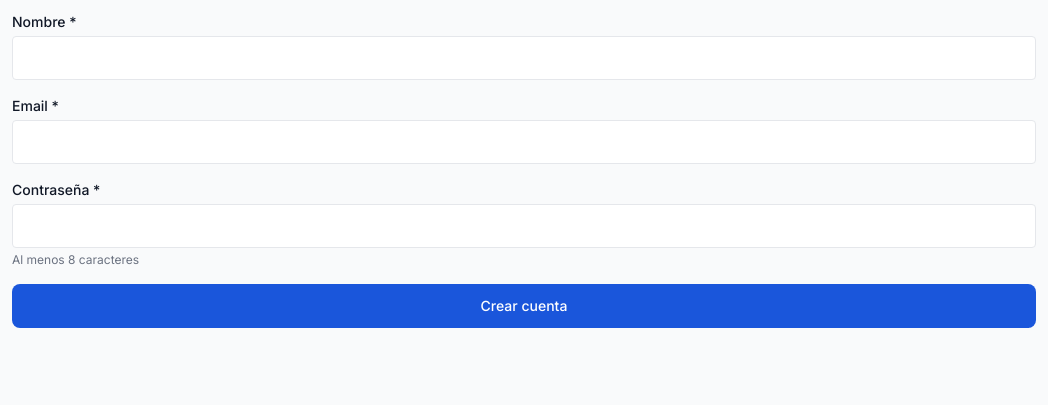
Test: RegisterForm (T2.1) › AC-6: email existente NO confirma que exista ni marca el campo
In the field labelled "Nombre *": point(524, 58) [12, 36, 1036, 80], type "Ana Gómez"
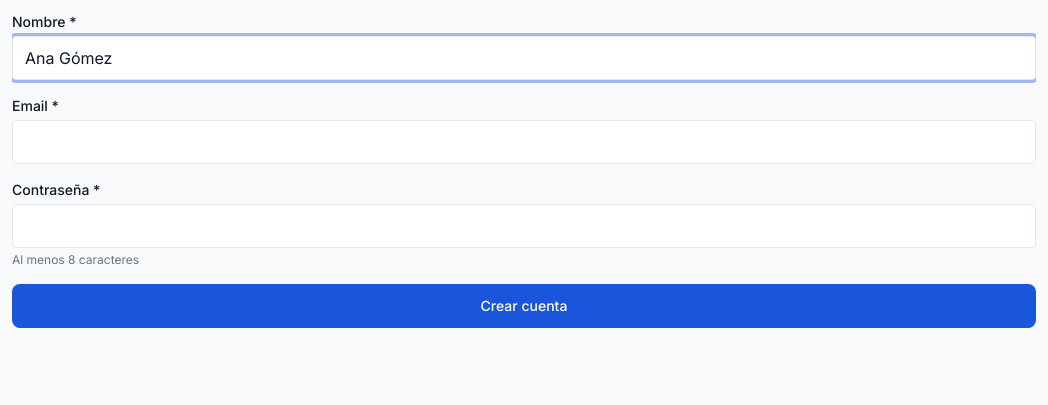
In the field labelled "Email *": point(524, 142) [12, 120, 1036, 164], type "ana@example.com"
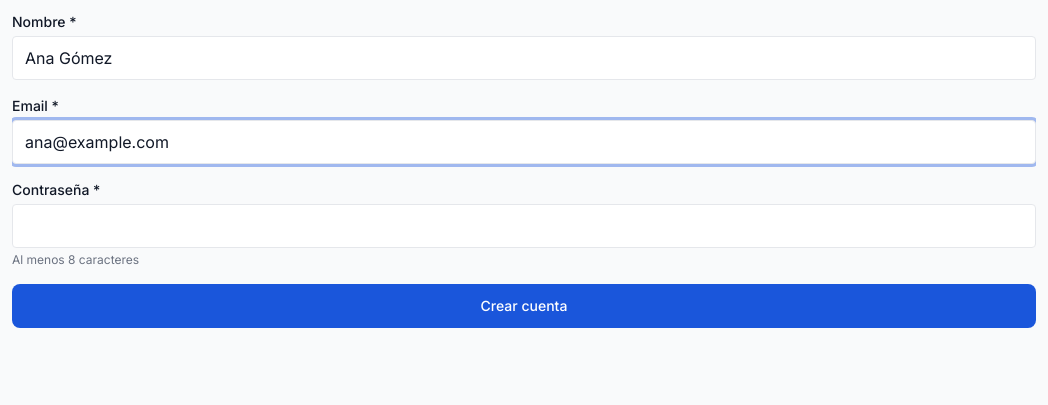
In the password field labelled "Contraseña *": point(524, 226) [12, 204, 1036, 248], type "Contrasena-Valida-1"
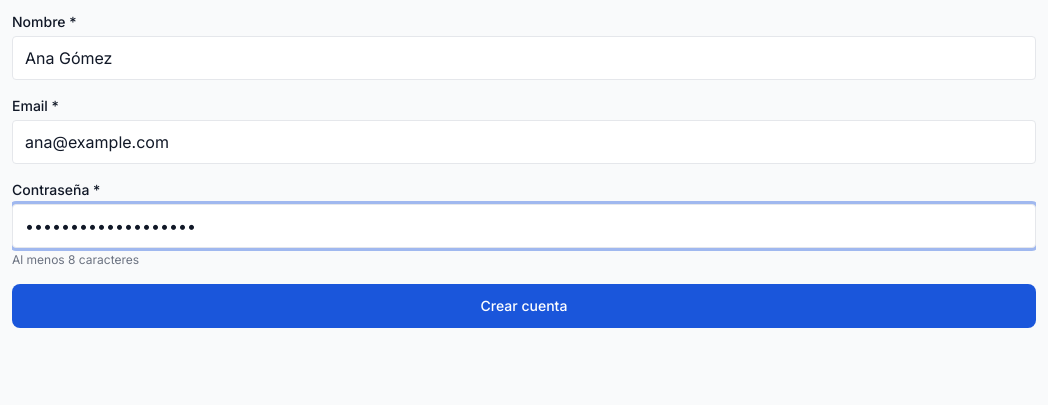
Click the button "Crear cuenta": point(524, 306) [12, 284, 1036, 328]
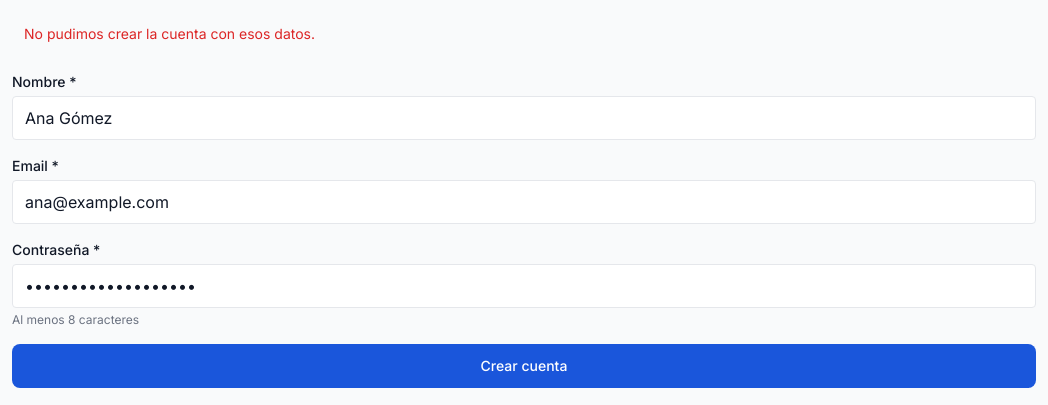
expect the message reads "No pudimos crear la cuenta con esos datos.": met, box [24, 25, 315, 42]
